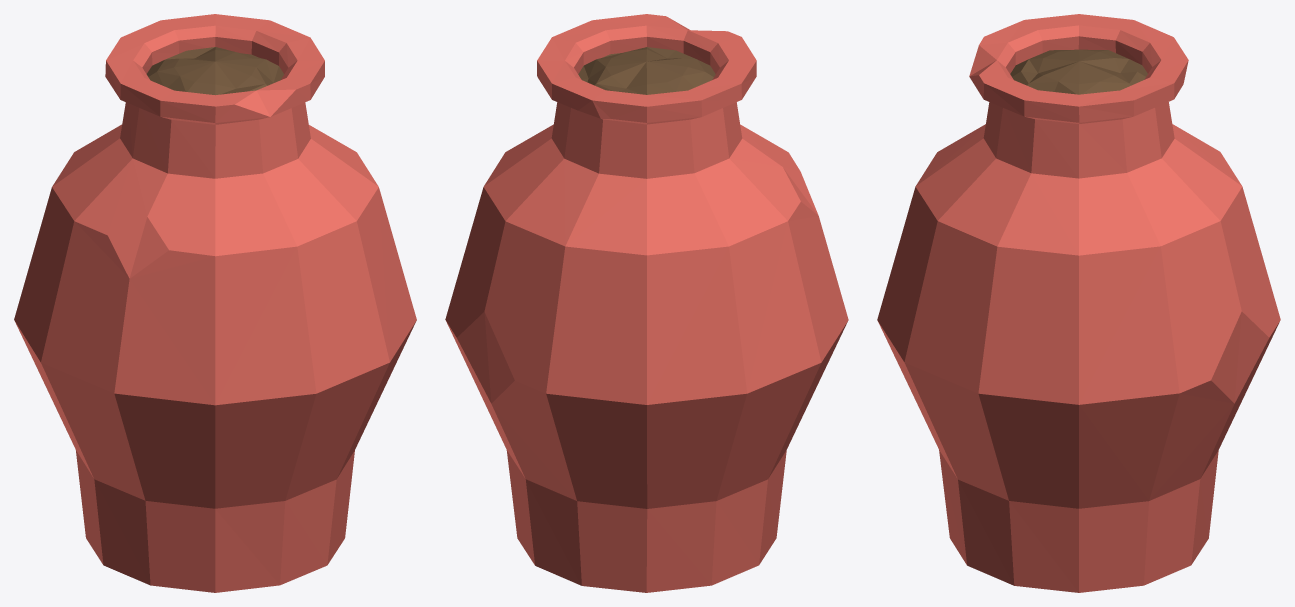
File: SFHW_Vassel_011.fbx
3 renders of one model, left to right at view 1: azimuth 30°, elevation 25°; view 2: azimuth 150°, elevation 25°; view 3: azimuth 270°, elevation 25°, orthographic.
Visible parts, largest first — view 1: SFHW_Vassel_011; view 2: SFHW_Vassel_011; view 3: SFHW_Vassel_011.
Boxes of the visible parts, x1,y1,x2,y2 form: SFHW_Vassel_011: (14,14,416,592); SFHW_Vassel_011: (445,14,848,592); SFHW_Vassel_011: (877,14,1280,592).
Size of the model in its own units: 54.45 by 72.33 by 54.48.
